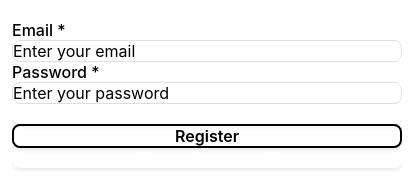
Test: LoginScreen › Form Validation › should show error when password is empty
Type "test@example.com" into the field with placeholder "Enter your email".
click(207, 51); type("test@example.com")  # box [12, 40, 402, 62]
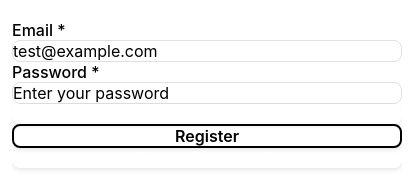
Click the text "Login".
click(207, 114)  # box [186, 104, 228, 124]
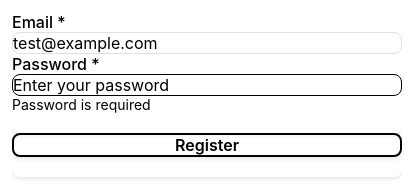
Check: the text "Password is required" is shown, box [12, 96, 151, 112]
